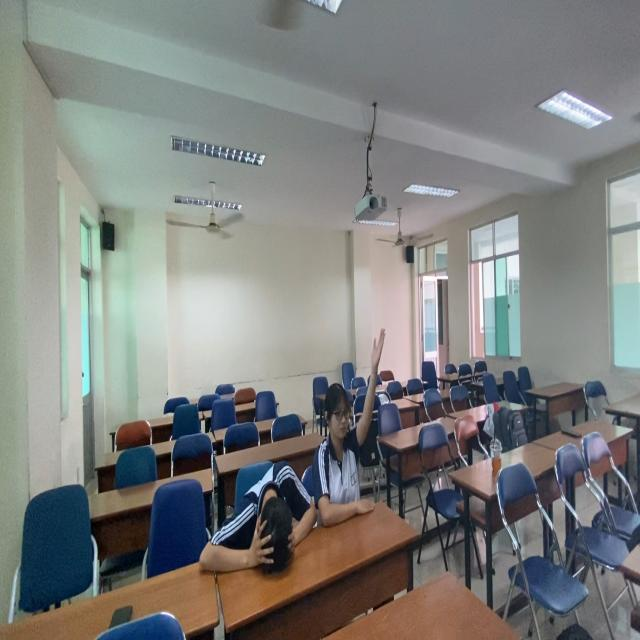raise_hand: (315, 327, 390, 523)
